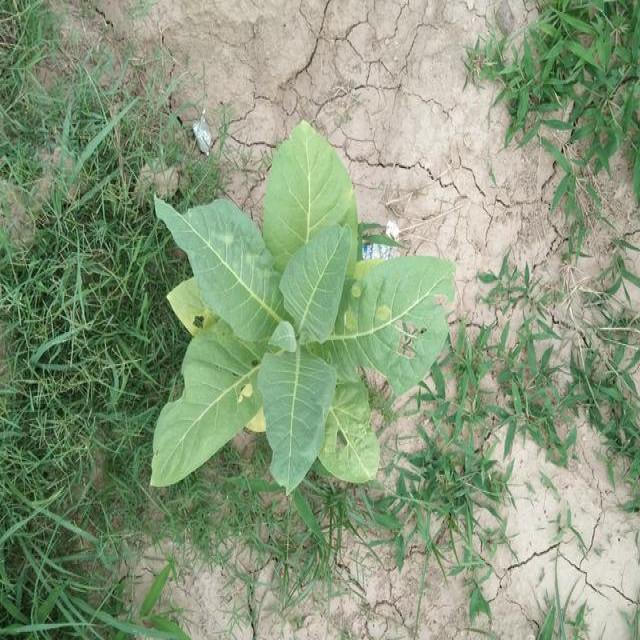crop: (139, 106, 459, 502)
